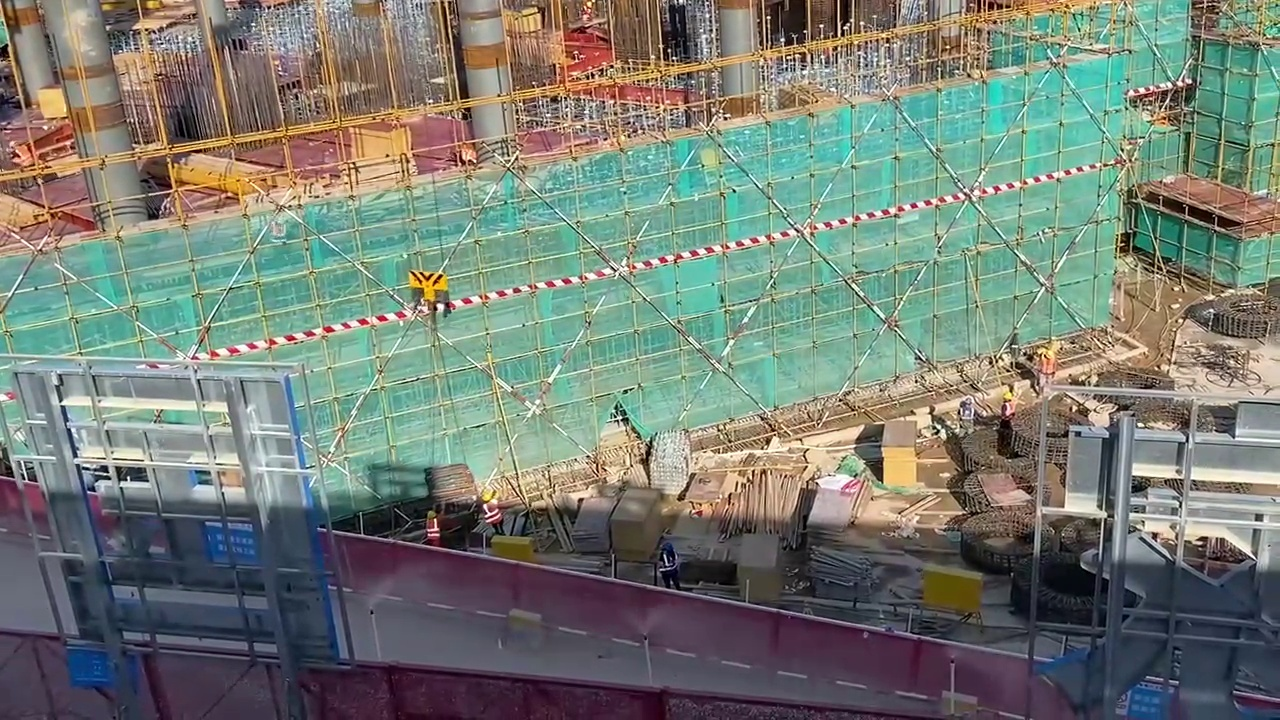board: (877, 417, 917, 487)
fence: (2, 628, 794, 720)
hook: (408, 270, 448, 302)
person: (475, 480, 508, 538), (652, 542, 680, 589), (421, 508, 440, 547)
wood: (726, 472, 803, 543)
